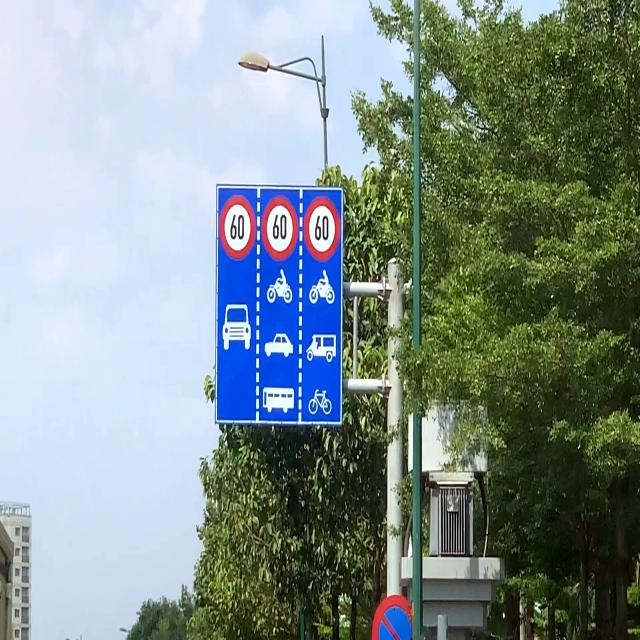P.127: (301, 189, 345, 272), (218, 192, 262, 262), (258, 188, 300, 258)
P.131a: (364, 590, 424, 640)
